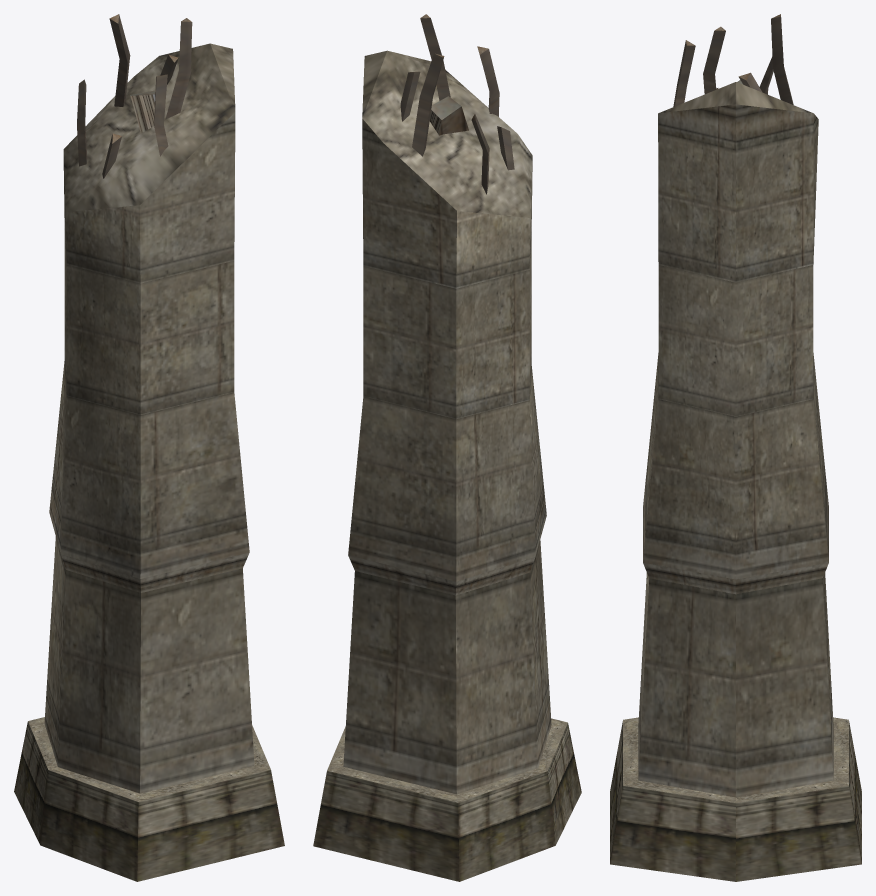
The model's file is SM_EN_2005_zhizi04.FBX.
The picture shows the model from 3 angles, left to right: view 1: azimuth 30°, elevation 25°; view 2: azimuth 150°, elevation 25°; view 3: azimuth 270°, elevation 25°; orthographic projection. The views are drawn at different scales.
Parts seen in each view (by area): view 1: SM_EN_2005_zhizi04; view 2: SM_EN_2005_zhizi04; view 3: SM_EN_2005_zhizi04.
Boxes of the visible parts, <box> form: SM_EN_2005_zhizi04: <box>14,14,284,881</box>; SM_EN_2005_zhizi04: <box>313,14,581,881</box>; SM_EN_2005_zhizi04: <box>610,14,861,881</box>.
Size of the model in its own units: 28.34 by 98.96 by 27.76.
